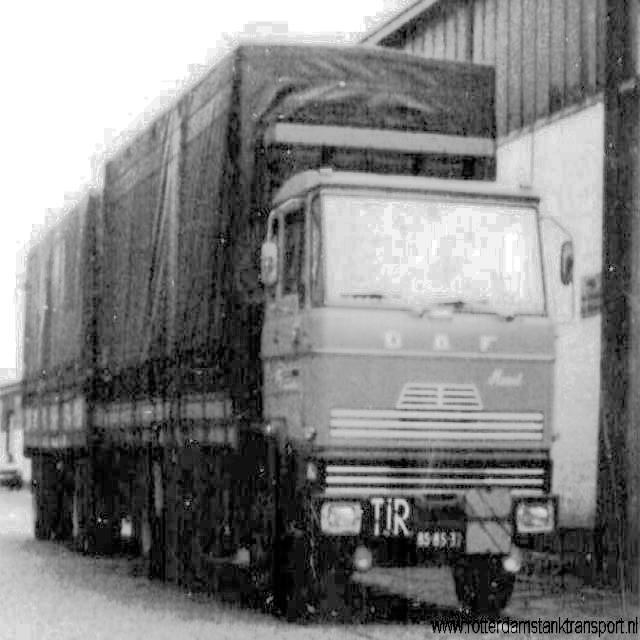HCV: (17, 32, 595, 618)
